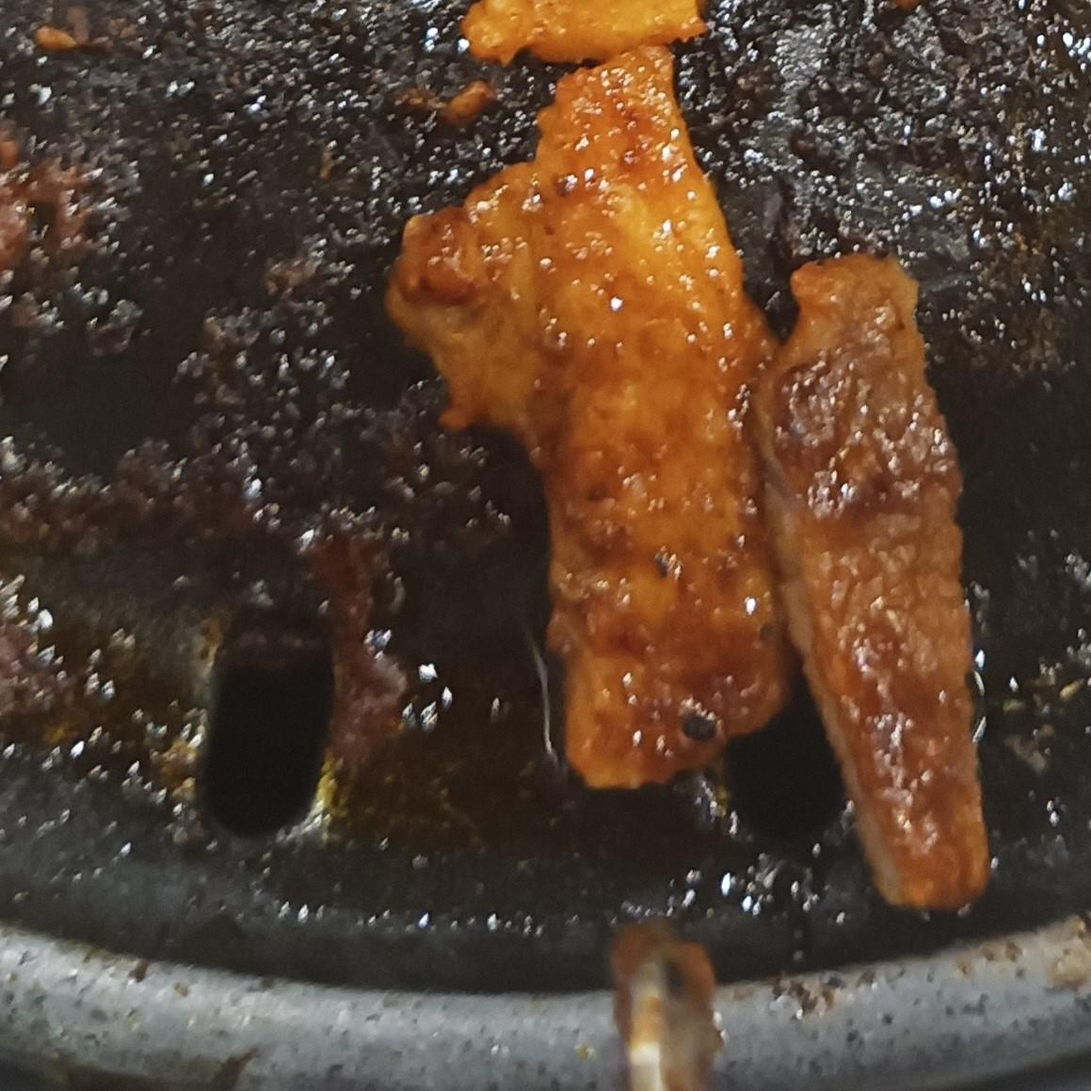Overcooked: (752, 253, 990, 908)
Well-Cooked: (386, 45, 789, 788)
